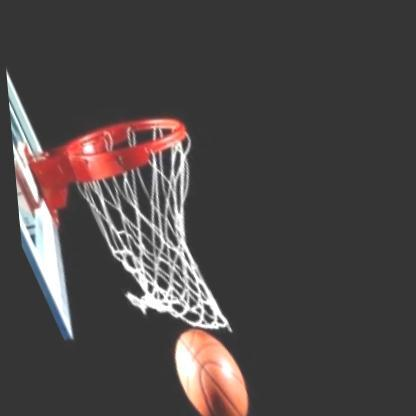basketball: (149, 306, 259, 416)
rim: (41, 91, 267, 366)
